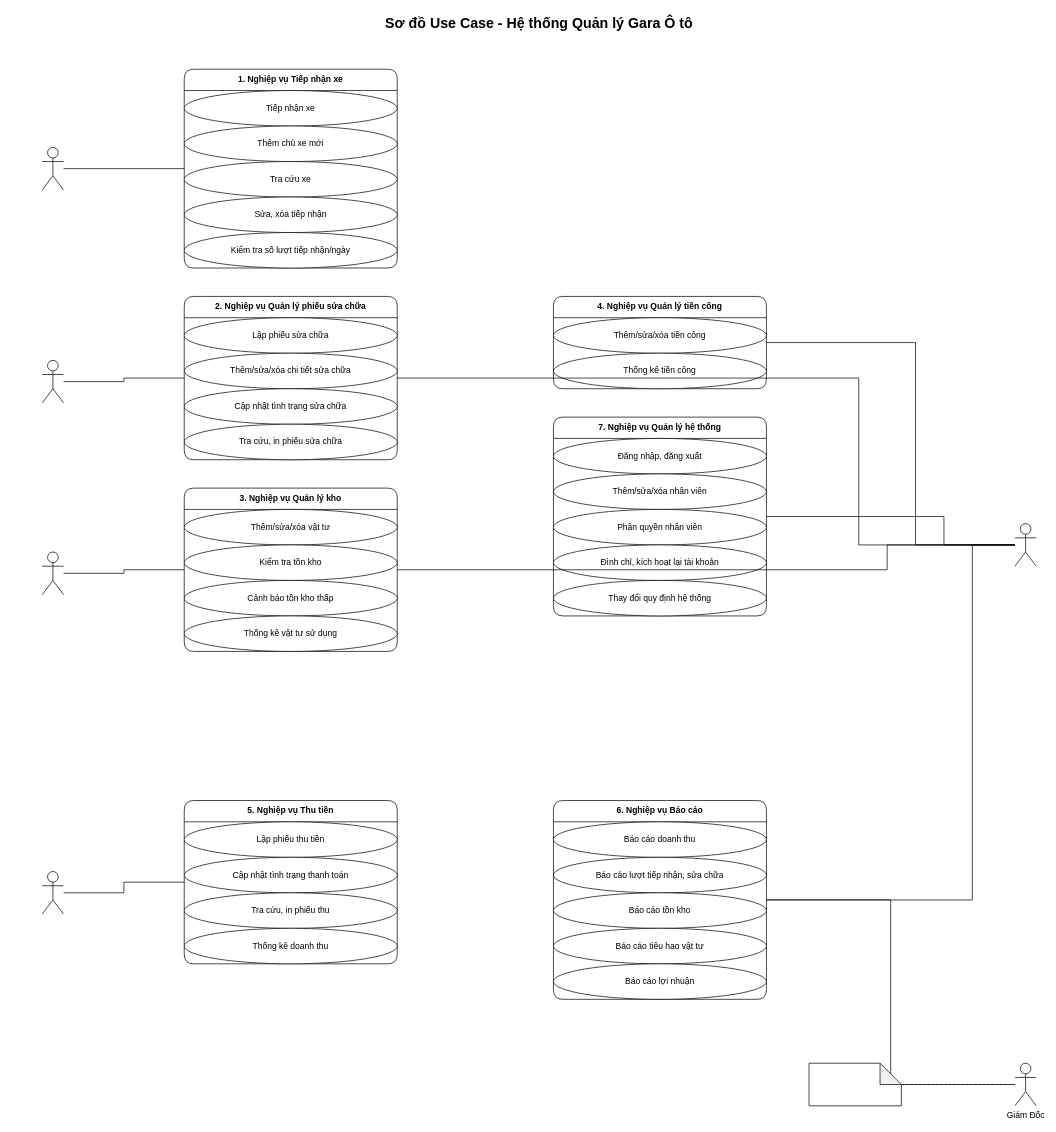
Image size: 1056x1132. Some labels were removed from this diagram. Each missing label, with the centre of its shape:
Chỉ có quyền xem báo cáo: point (854, 1084)
Kế Toán: point (53, 892)
Nhân Viên Kho: point (53, 573)
Nhân Viên Tiếp Nhận: point (53, 168)
Quản Lý: point (1025, 544)
Thợ Sửa Chữa: point (53, 381)
